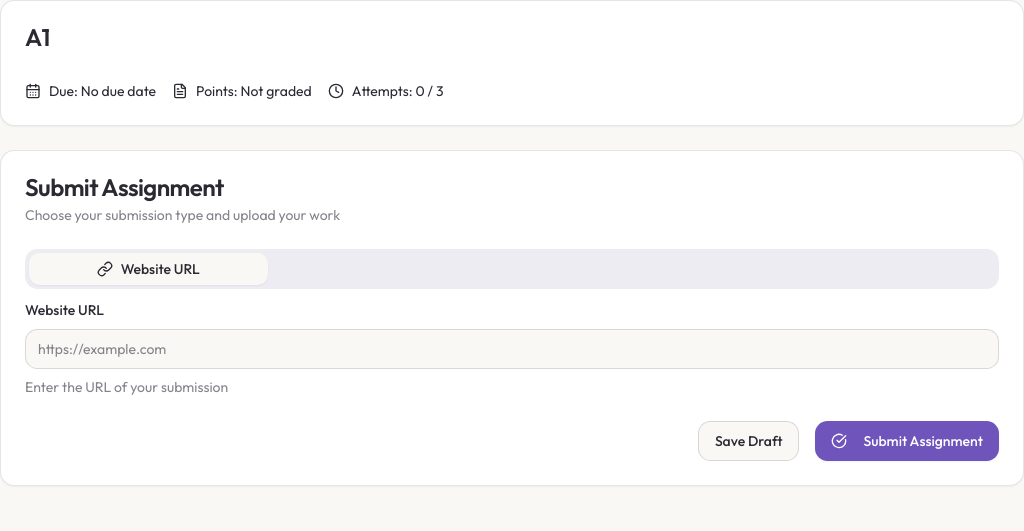
it: AssignmentSubmission (real schema + resolver) › url mode: an invalid URL is rejected; a valid URL is submitted
Later steps or results of the test are not shown.
Type "not a url" into the field with placeholder "https://example.com" at (512, 349), box [25,329,999,369]
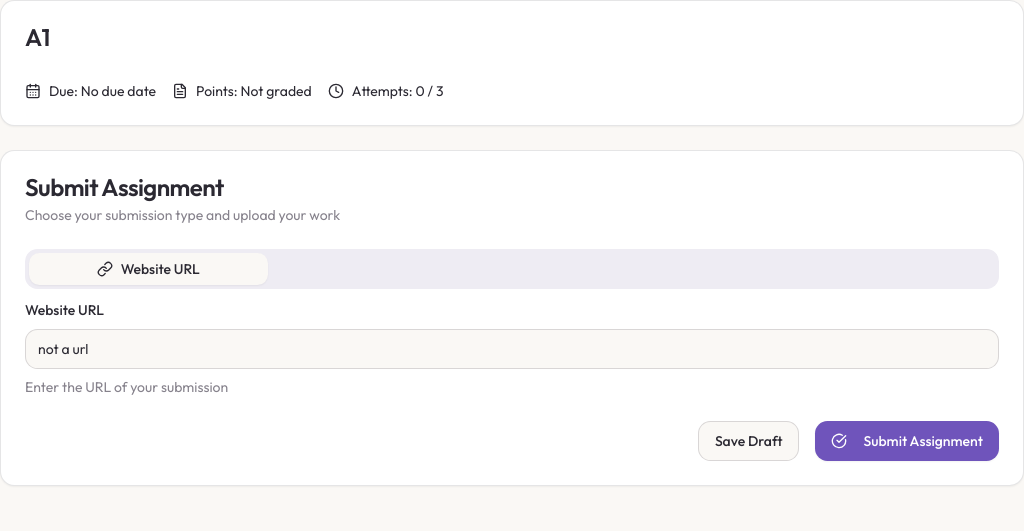
Submit the form, box [25,249,999,461]
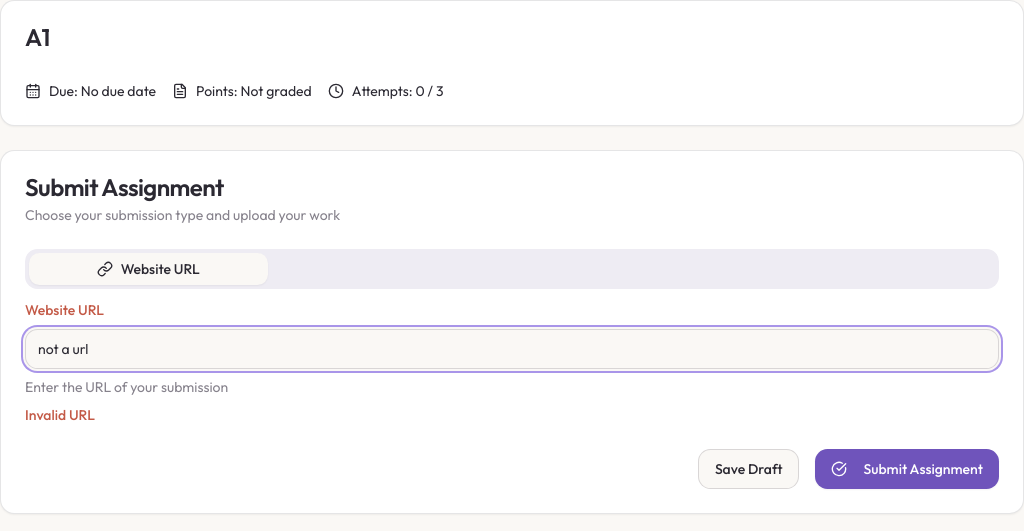
Now the text "Invalid URL" is shown, box [25,406,95,424]
